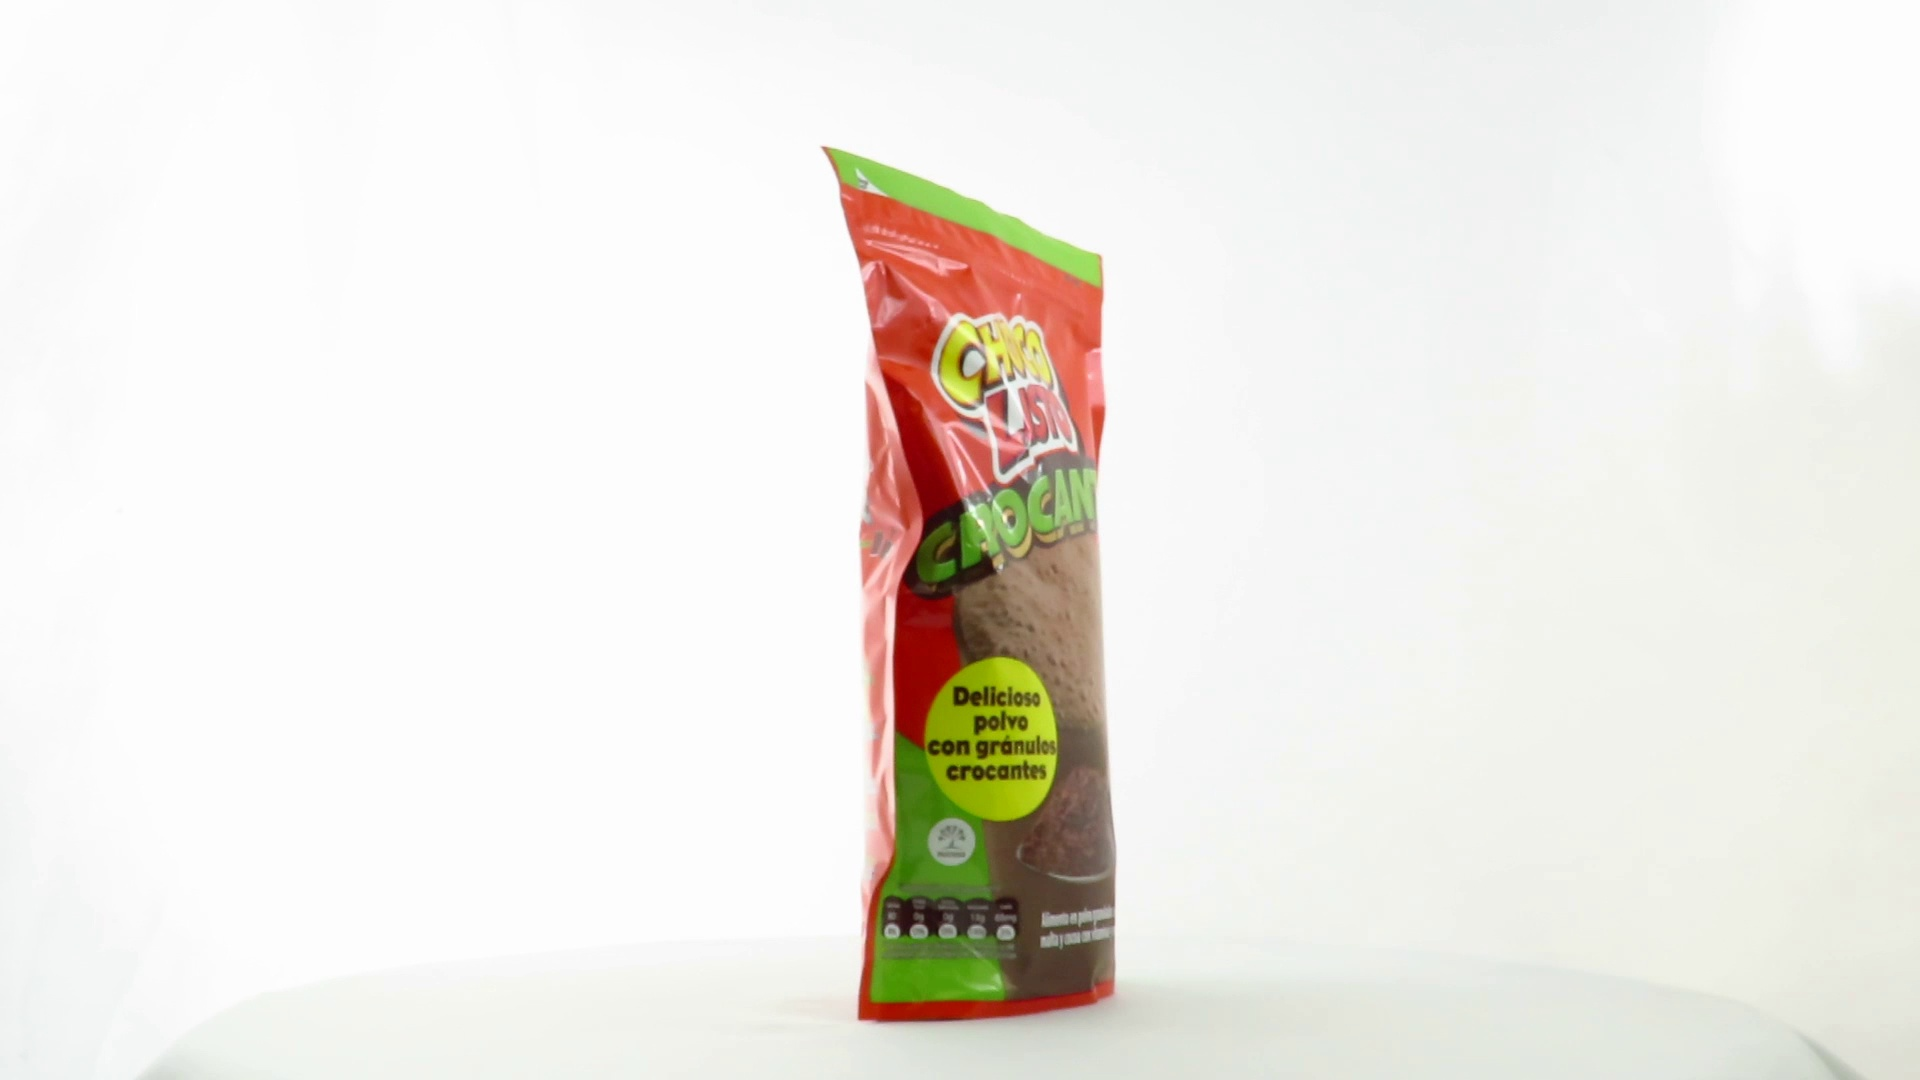COL0170102DYP50000: (816, 141, 1124, 1029)
